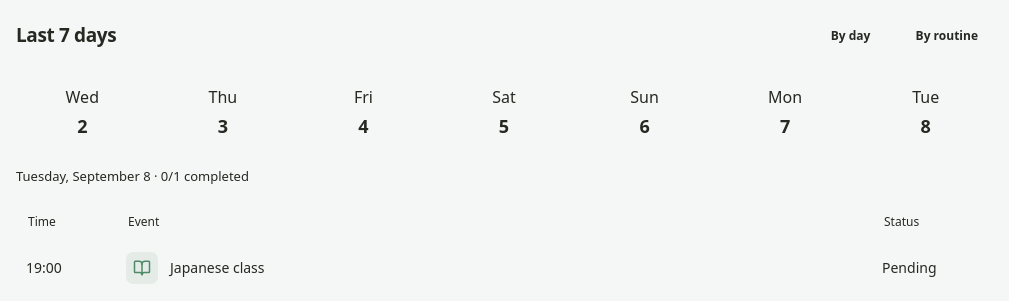
Scenario: shows exact activities and times per date, including archived schedules and off-day matrix cells
Click the button with aria-label "Monday, September 7, 2026".
click(785, 112)  # box [719,74,851,150]
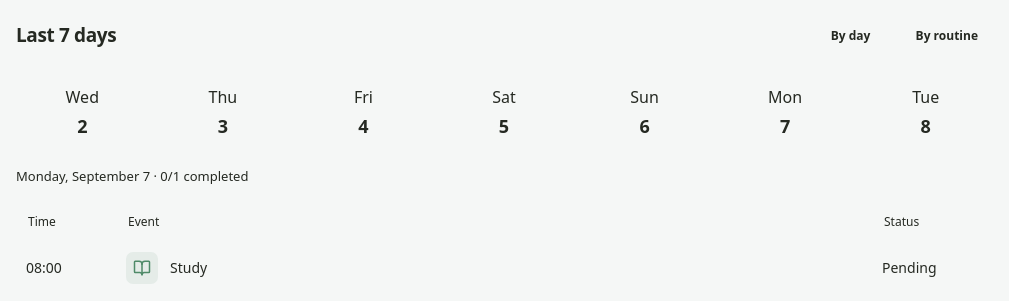
Expected: the text "Japanese class" is gone
Click the button "By routine".
click(947, 35)  # box [902,16,992,54]
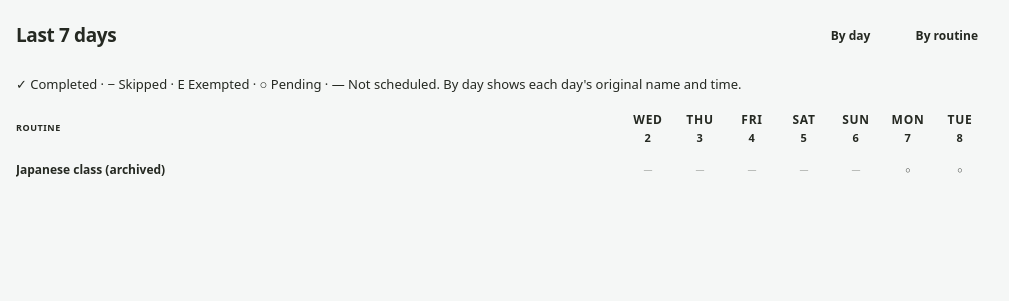
Expected: the number of elements with class "status-off" is 5, [644,163,652,176]; [696,163,704,176]; [748,163,756,176]; [800,163,808,176]; [852,163,860,176]
Expected: the text "(archived)" is shown, [102,161,165,178]
